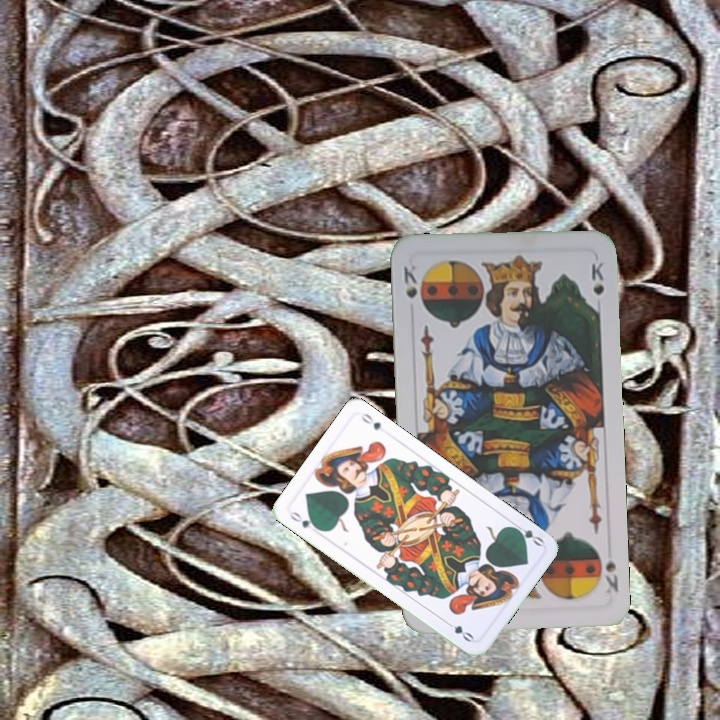GO: (508, 519, 546, 549), (286, 507, 323, 533)
SK: (399, 262, 425, 308), (601, 556, 621, 596)
